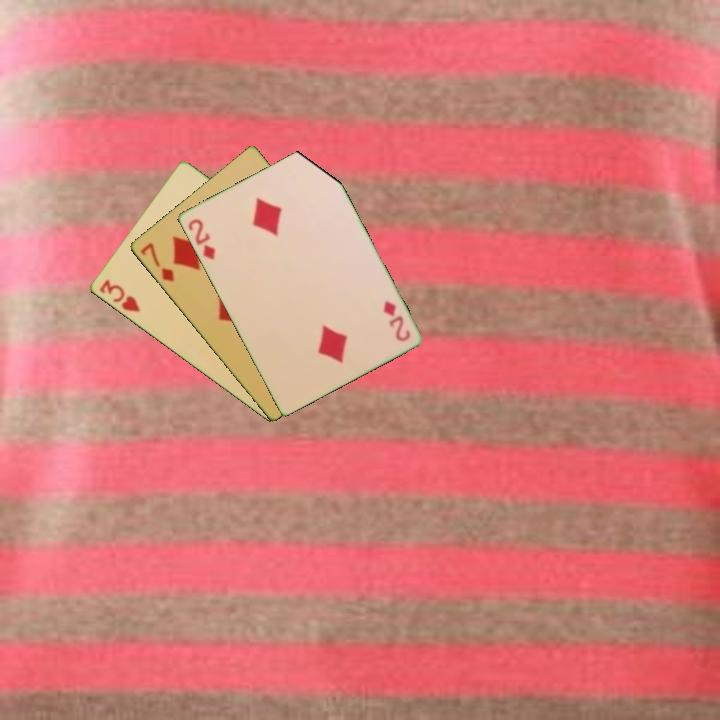2d: (184, 215, 218, 263), (379, 297, 413, 344)
3h: (95, 276, 143, 315)
7d: (136, 239, 177, 285)
